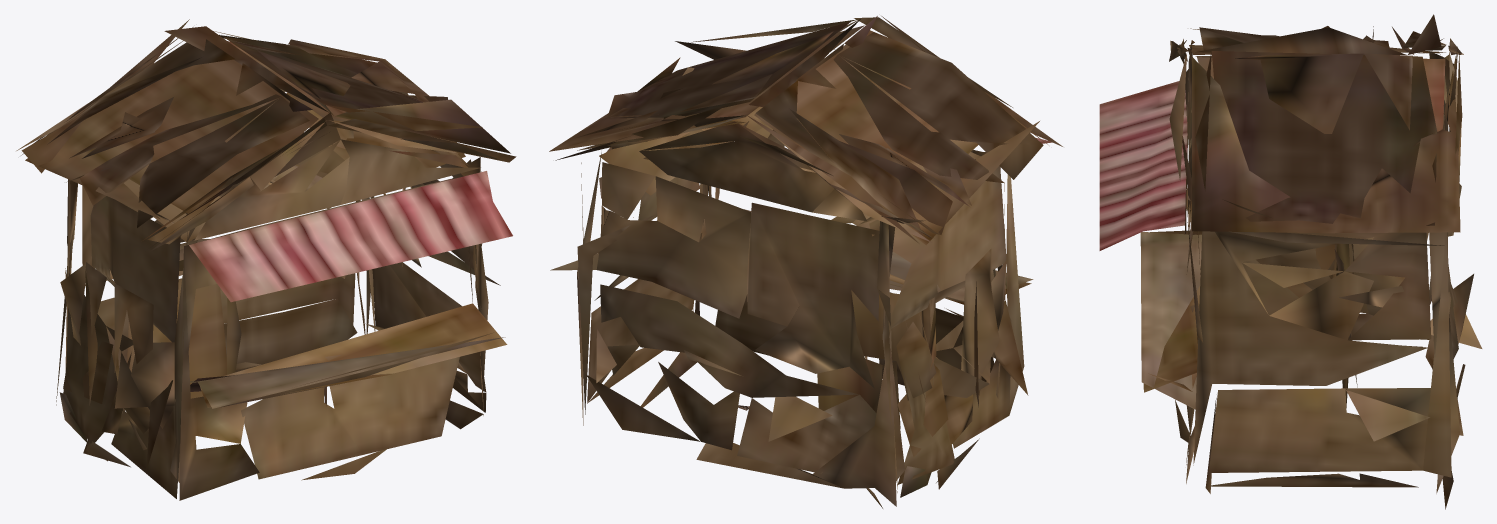
The model's file is jahrmarkt_bude_lo.glb.
3 views of the same model, side by side, from view 1: azimuth 30°, elevation 25°; view 2: azimuth 150°, elevation 25°; view 3: azimuth 270°, elevation 25° (orthographic). The views are drawn at different scales.
Parts seen in each view (by area): view 1: Prop; view 2: Prop; view 3: Prop.
Part boxes in pixels (x1=…): Prop: x1=16, y1=19, x2=516, y2=500; Prop: x1=549, y1=16, x2=1062, y2=508; Prop: x1=1099, y1=14, x2=1482, y2=509.
Size of the model in its own units: 1.11 by 1.05 by 0.8991.
Materials: 1 (1 with a texture image).
